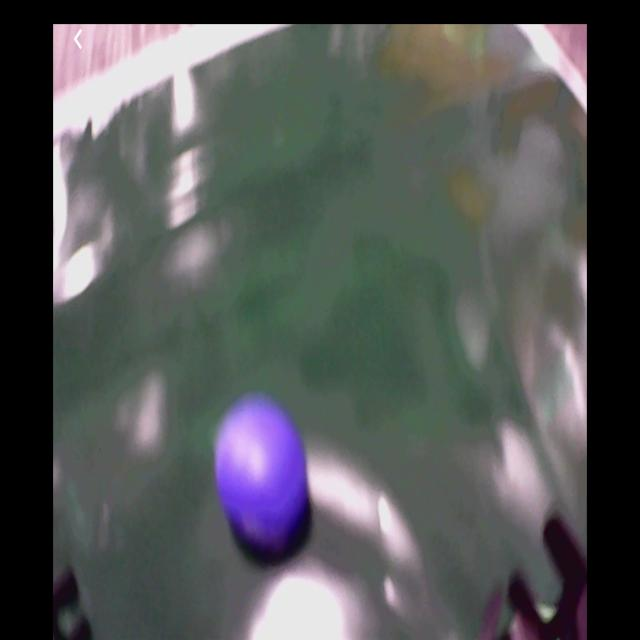ball: (220, 396, 309, 550)
